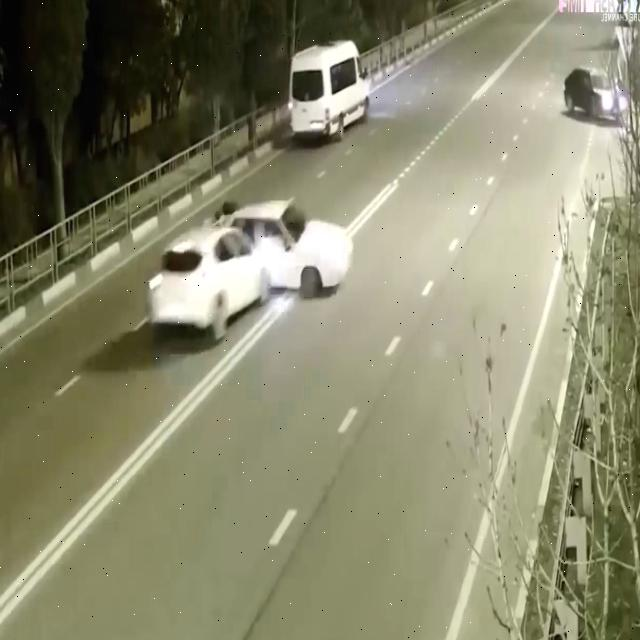accident: (137, 182, 363, 365)
